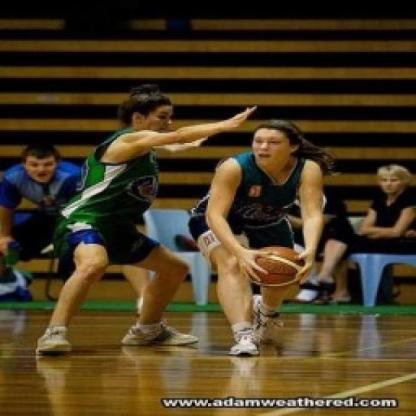basketball: (242, 240, 310, 294)
